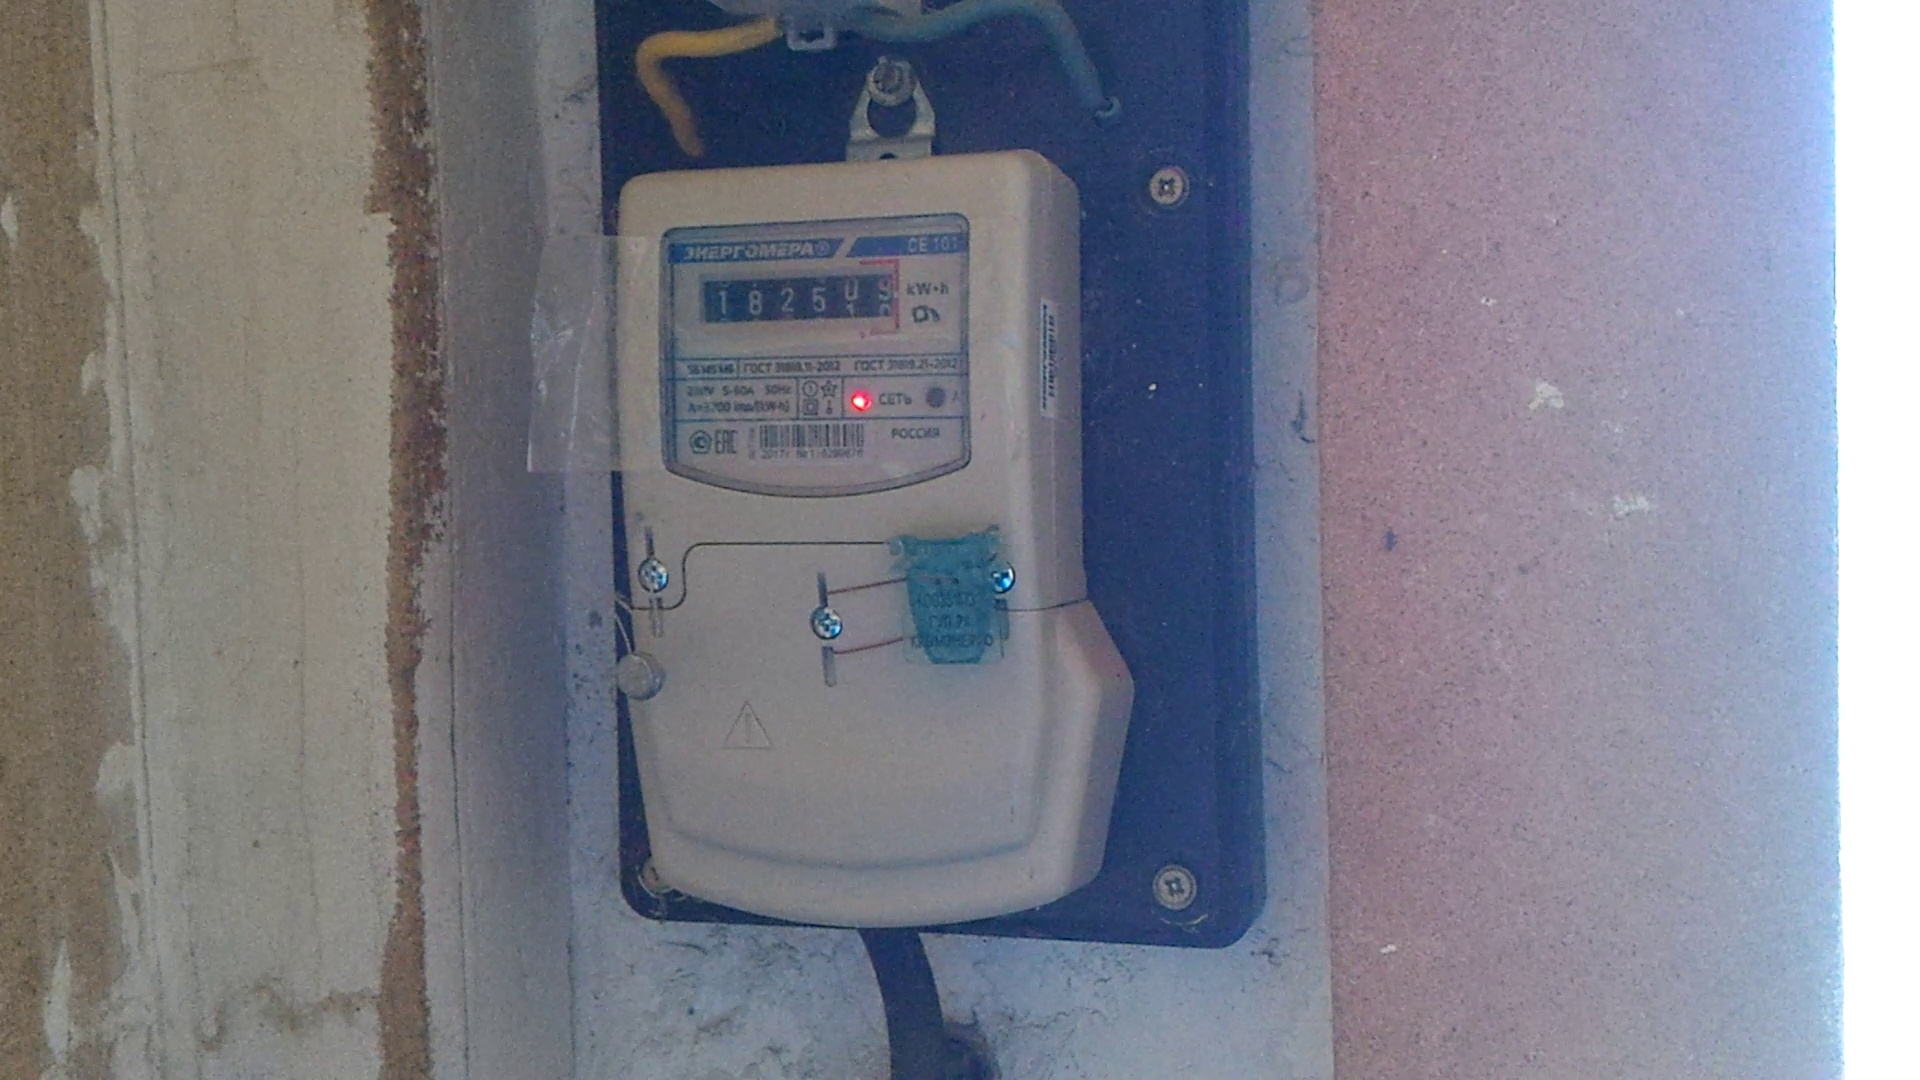counter: (620, 160, 1056, 913)
counter_screen: (702, 274, 895, 324)
